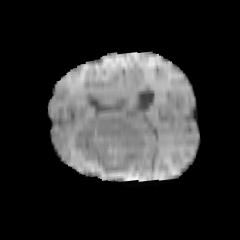glioma: (74, 119, 146, 173)
